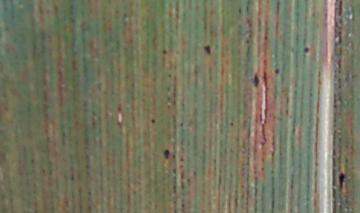tarspot: (251, 71, 261, 89), (337, 172, 346, 191), (288, 172, 296, 190), (330, 168, 337, 187), (337, 1, 344, 17), (331, 199, 339, 213), (202, 44, 212, 55), (172, 175, 178, 193), (331, 128, 337, 146), (162, 148, 170, 161), (70, 58, 78, 71), (330, 156, 338, 168), (217, 168, 222, 186), (270, 136, 278, 147), (290, 126, 298, 137), (192, 64, 199, 76), (336, 77, 343, 89), (331, 187, 338, 199), (232, 196, 238, 209), (336, 56, 342, 69), (96, 81, 103, 92), (337, 35, 344, 46), (337, 93, 344, 104), (116, 120, 124, 129), (331, 91, 337, 103), (116, 103, 123, 113), (90, 118, 97, 128), (270, 147, 277, 157), (270, 198, 276, 209), (273, 67, 281, 75), (302, 46, 310, 54), (68, 16, 76, 24), (236, 6, 243, 15), (185, 177, 192, 186), (338, 17, 345, 26), (69, 172, 75, 182), (179, 169, 185, 179), (179, 180, 185, 190), (338, 46, 344, 56), (259, 139, 266, 147), (263, 33, 269, 42), (86, 204, 92, 213), (337, 136, 343, 145), (331, 147, 337, 156), (165, 85, 172, 92), (113, 8, 120, 15), (191, 170, 197, 178), (178, 155, 184, 163), (177, 163, 185, 169), (171, 167, 177, 175), (91, 109, 97, 117), (343, 156, 349, 164), (332, 116, 338, 124), (284, 108, 289, 117), (150, 117, 156, 124), (161, 48, 167, 55), (40, 167, 46, 174), (178, 121, 184, 128), (166, 103, 172, 110), (121, 12, 128, 18), (245, 38, 251, 45), (84, 170, 91, 176), (129, 81, 135, 88), (239, 183, 246, 189), (128, 37, 134, 44), (180, 101, 185, 109), (229, 121, 235, 127), (166, 72, 172, 78), (60, 130, 66, 136), (84, 163, 90, 169), (86, 190, 92, 196), (332, 103, 338, 109), (212, 157, 217, 164), (171, 153, 176, 159), (166, 96, 171, 102), (180, 202, 185, 208), (172, 207, 177, 213), (260, 166, 265, 172), (308, 91, 313, 97), (180, 197, 185, 202), (172, 199, 177, 204), (337, 30, 342, 35), (29, 158, 35, 162), (337, 69, 341, 74)
